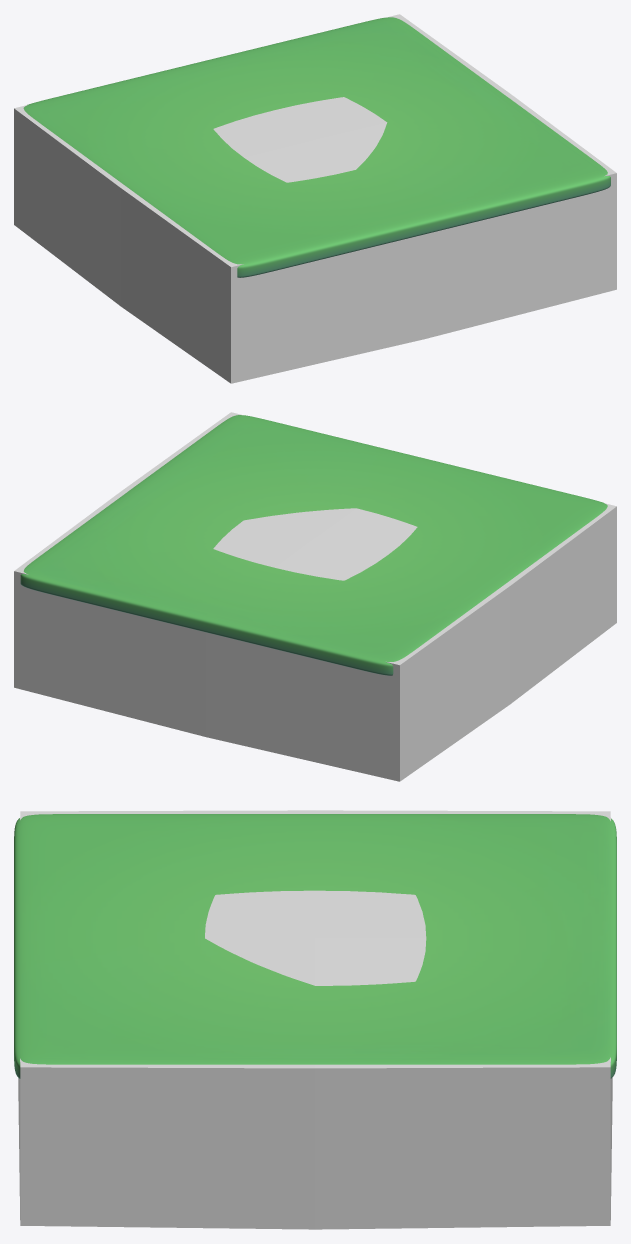
Rendered from PlatformGiga.glb.
3 views of the same model, one above another, from view 1: azimuth 30°, elevation 25°; view 2: azimuth 150°, elevation 25°; view 3: azimuth 270°, elevation 25° (orthographic). The views are drawn at different scales.
Visible parts, largest first — view 1: colision-colonly.017, PlatformGiga; view 2: colision-colonly.017, PlatformGiga; view 3: PlatformGiga, colision-colonly.017.
Part boxes in pixels (left/top/right/bottom): colision-colonly.017: left=14, top=14, right=616, bottom=383; PlatformGiga: left=23, top=17, right=610, bottom=277; colision-colonly.017: left=14, top=412, right=616, bottom=781; PlatformGiga: left=20, top=415, right=607, bottom=675; PlatformGiga: left=14, top=814, right=616, bottom=1078; colision-colonly.017: left=18, top=810, right=612, bottom=1229.
Bounding box in the file's own units: 20.25 × 5.96 × 20.
Materials: 1 (1 with a texture image).
